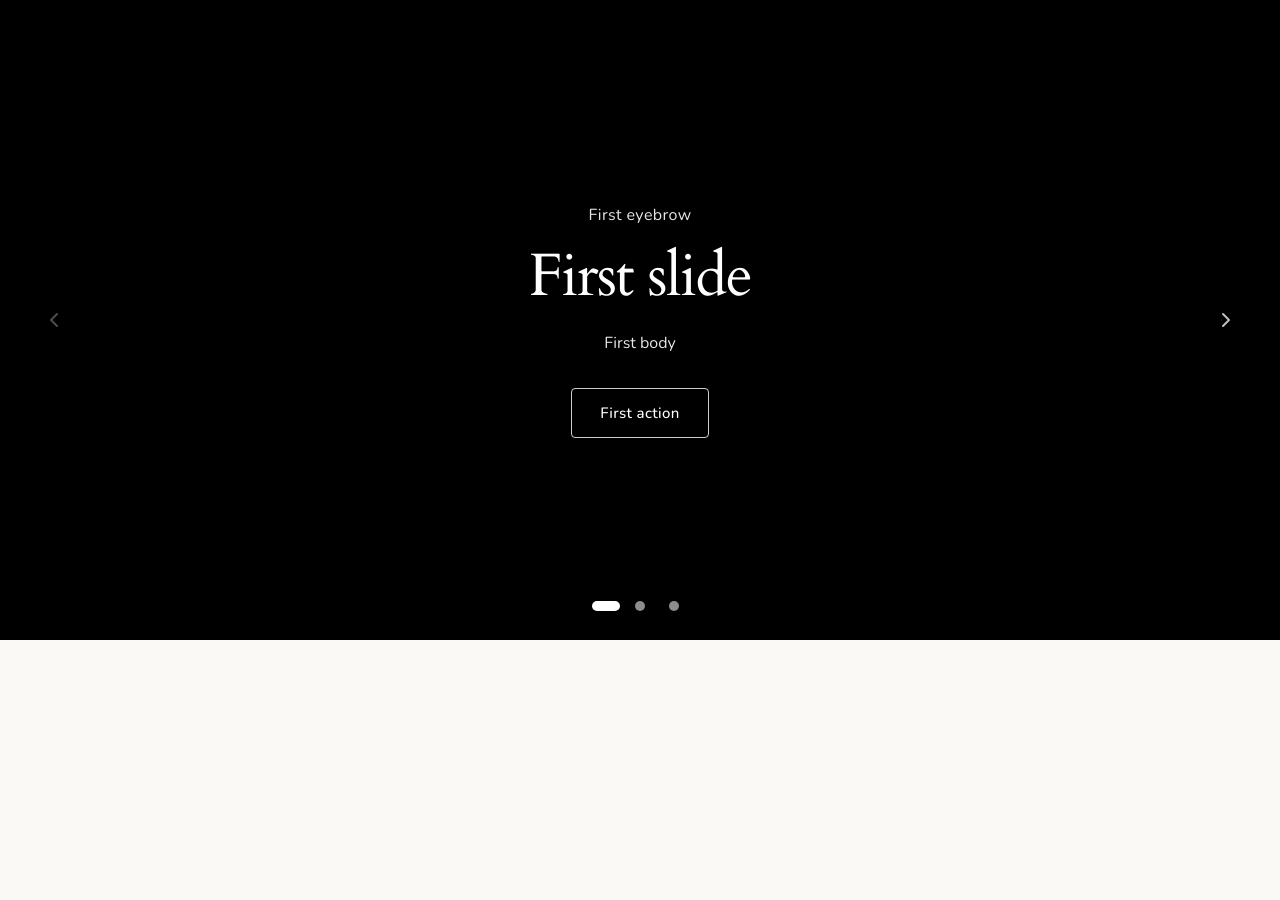
Test case: HeroCarousel › disables previous on the first slide and next on the last
Expected: the 1st button named "Previous slide" is disabled, [32,298,76,342]
Click the 2nd button named "Next slide" at (1226, 320), box [1204,298,1248,342]
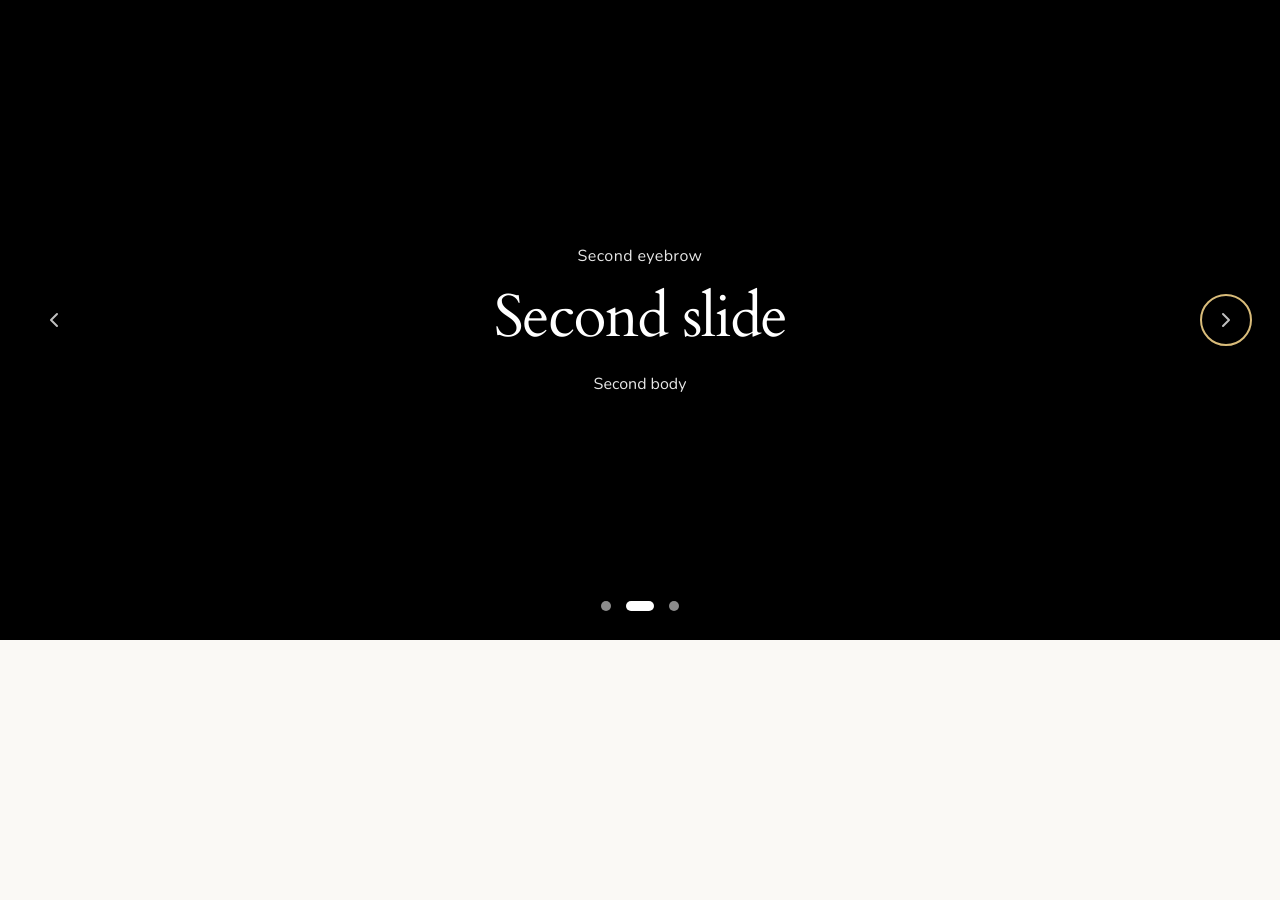
Click the 2nd button named "Next slide" at (1226, 320), box [1204,298,1248,342]
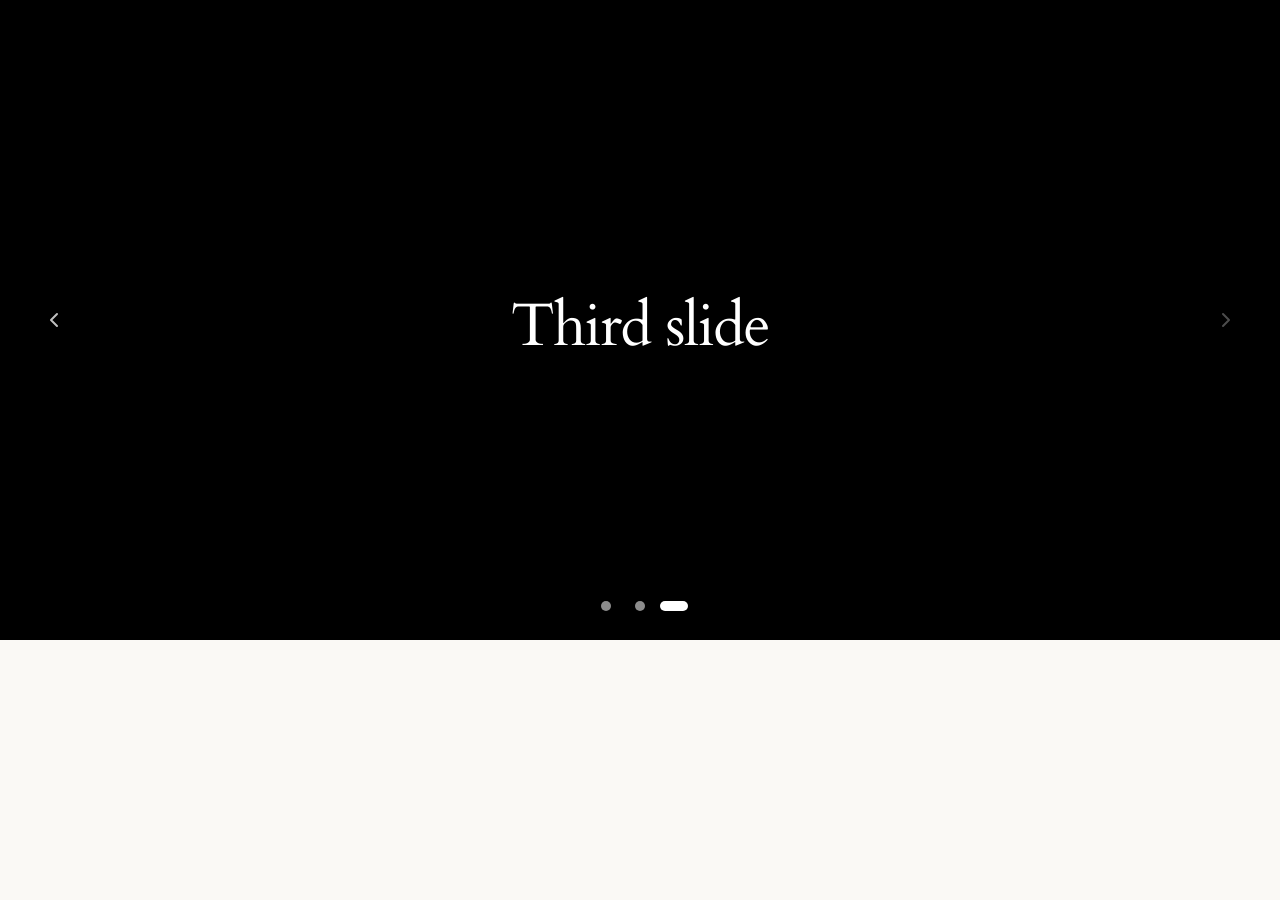
Result: the 2nd button named "Next slide" is disabled at [1204,298,1248,342]
Result: the text "Third slide" is shown at [511,288,769,364]
